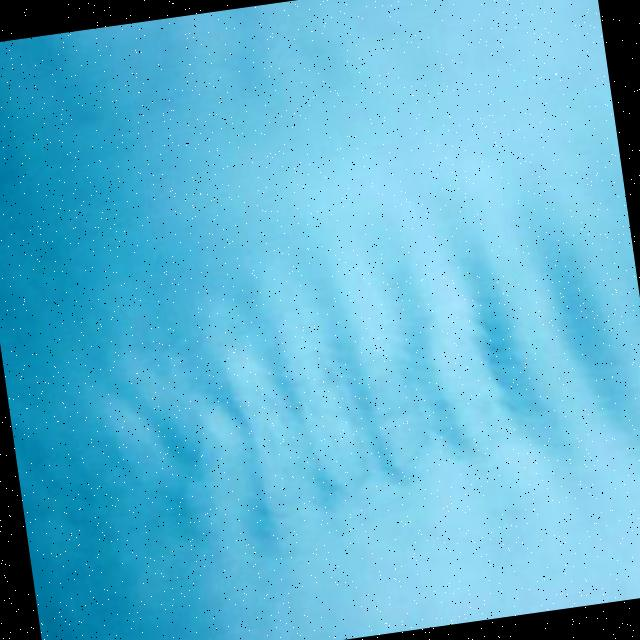Ac: (1, 25, 640, 547)
